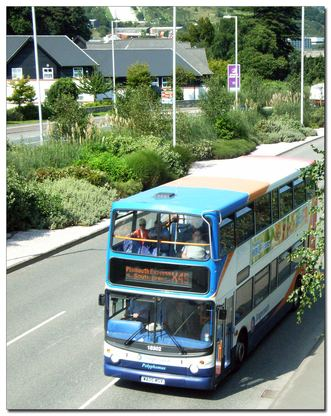bus: (97, 154, 320, 393)
